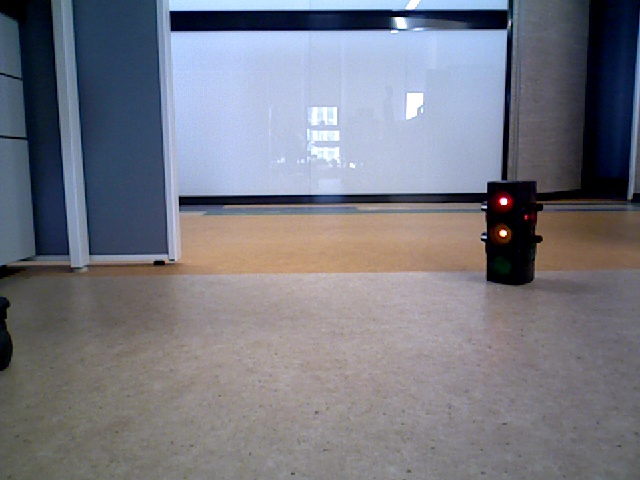red: (489, 187, 530, 281)
